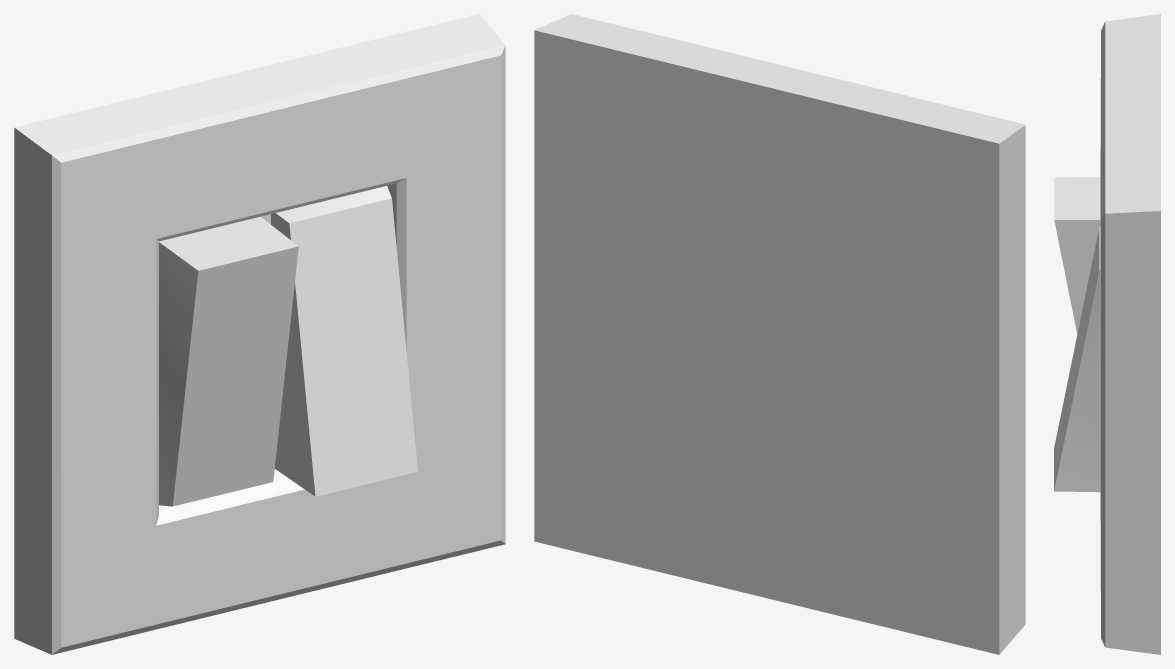
The model's file is Switch.fbx.
3 views of the same model, side by side, from view 1: azimuth 30°, elevation 25°; view 2: azimuth 150°, elevation 25°; view 3: azimuth 270°, elevation 25° (orthographic). The views are drawn at different scales.
Parts seen in each view (by area): view 1: Switch; view 2: Switch; view 3: Switch.
Boxes of the visible parts, x1,y1,x2,y2 form: Switch: (14, 14, 505, 654); Switch: (534, 14, 1025, 654); Switch: (1054, 14, 1160, 654).
Bounding box in the file's own units: 9.68 × 10.17 × 2.22.
Materials: 1 (1 with a texture image).
